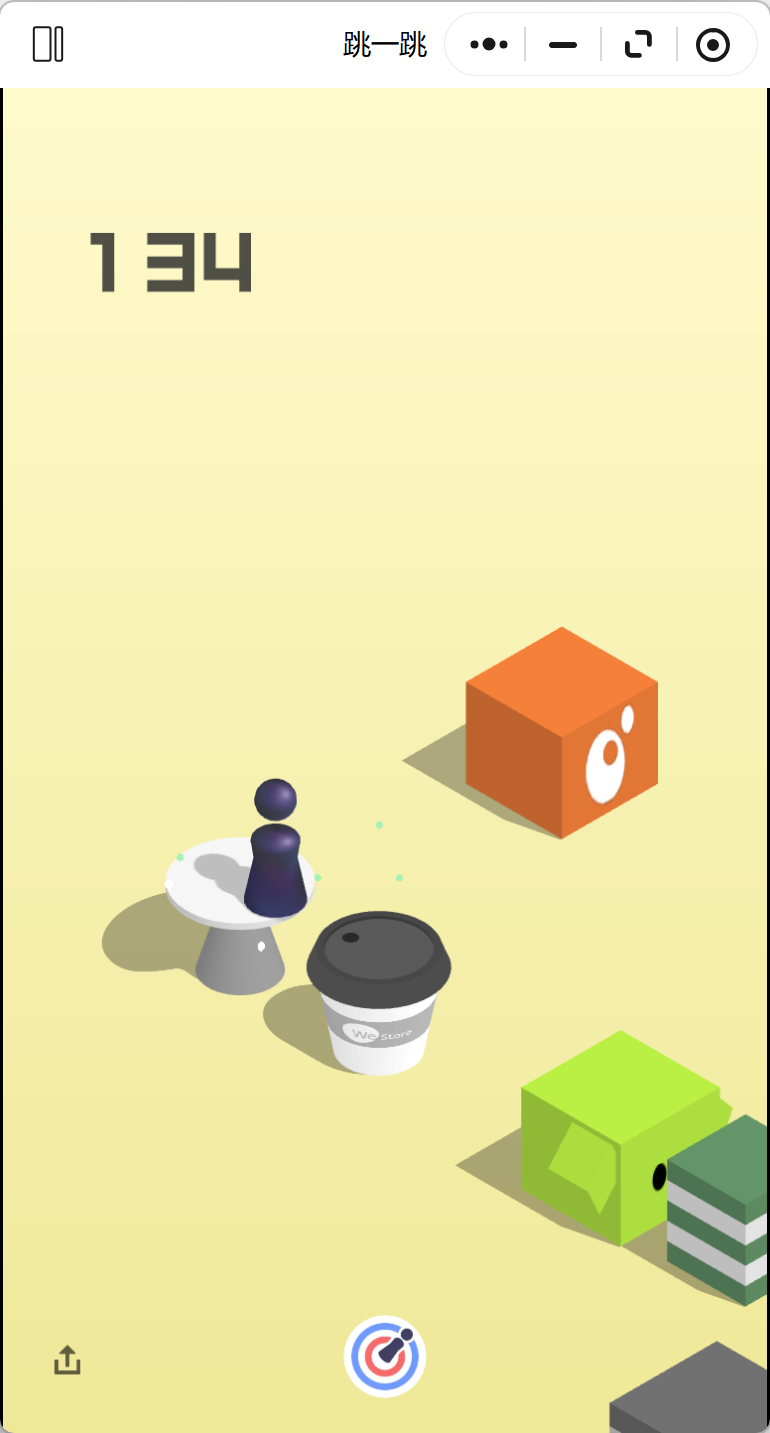piece: (245, 778, 310, 917)
platform: (466, 624, 660, 838)
